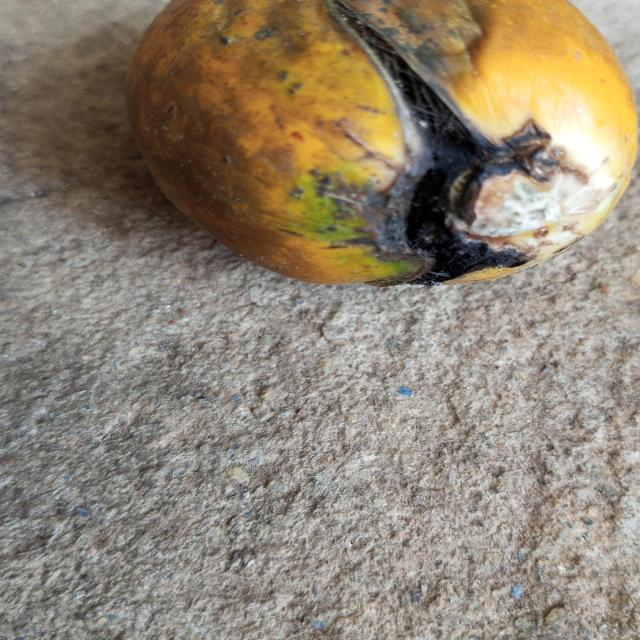damaged: (124, 0, 640, 289)
